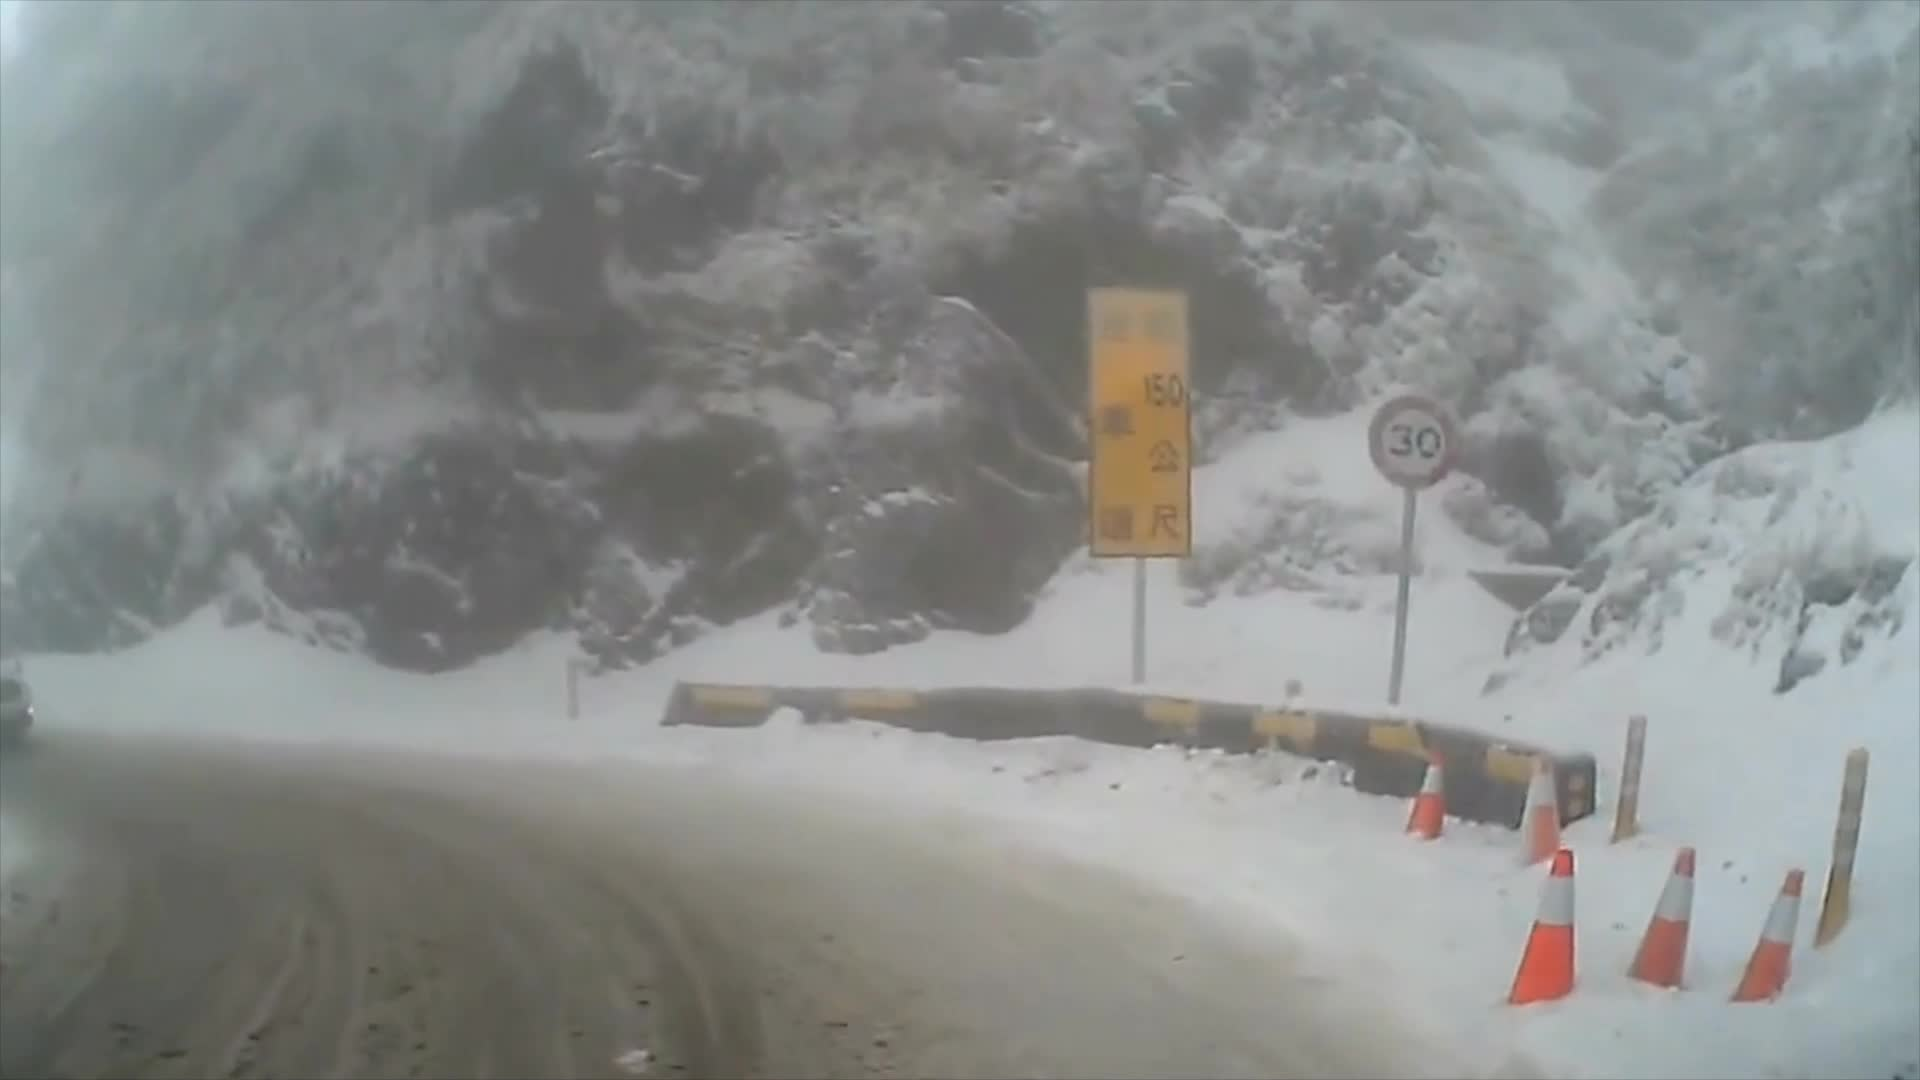vehicle: (0, 673, 34, 749)
